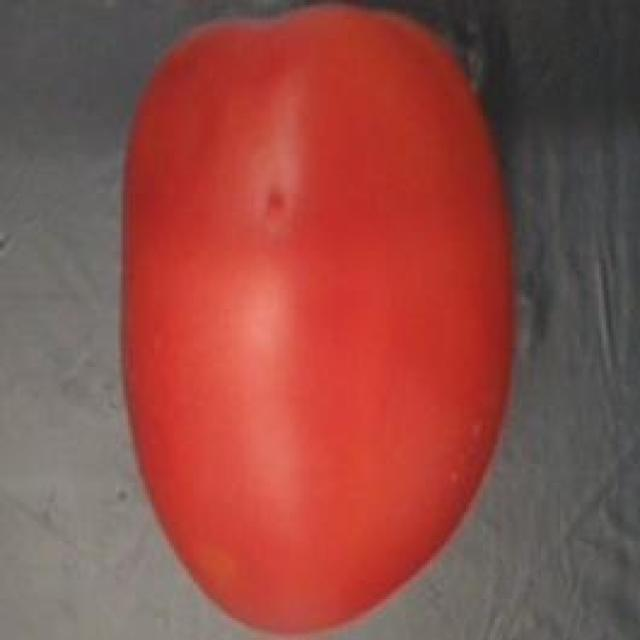ripe tomato: (97, 2, 529, 640)
